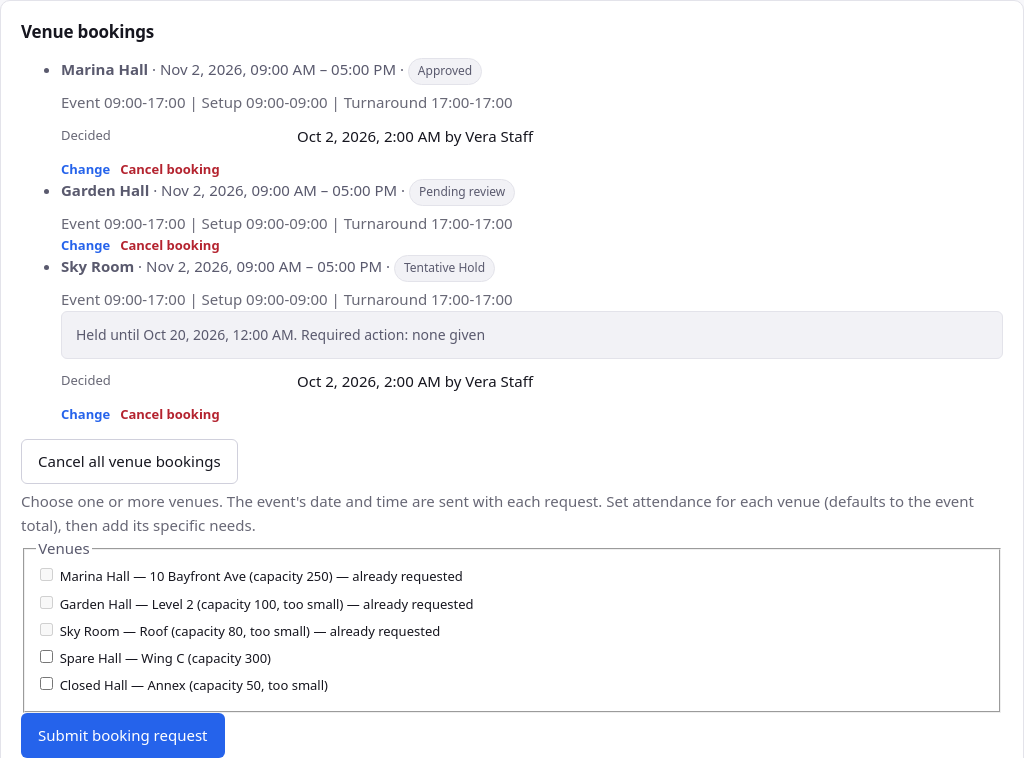
Test: SCRUM-96 AC2 - the change form › discards the change without sending anything
Expected: the text "Marina Hall" is shown, left=61, top=59, right=148, bottom=79
Click the button with aria-label "Change Marina Hall booking" at [86, 169], box left=61, top=159, right=110, bottom=179
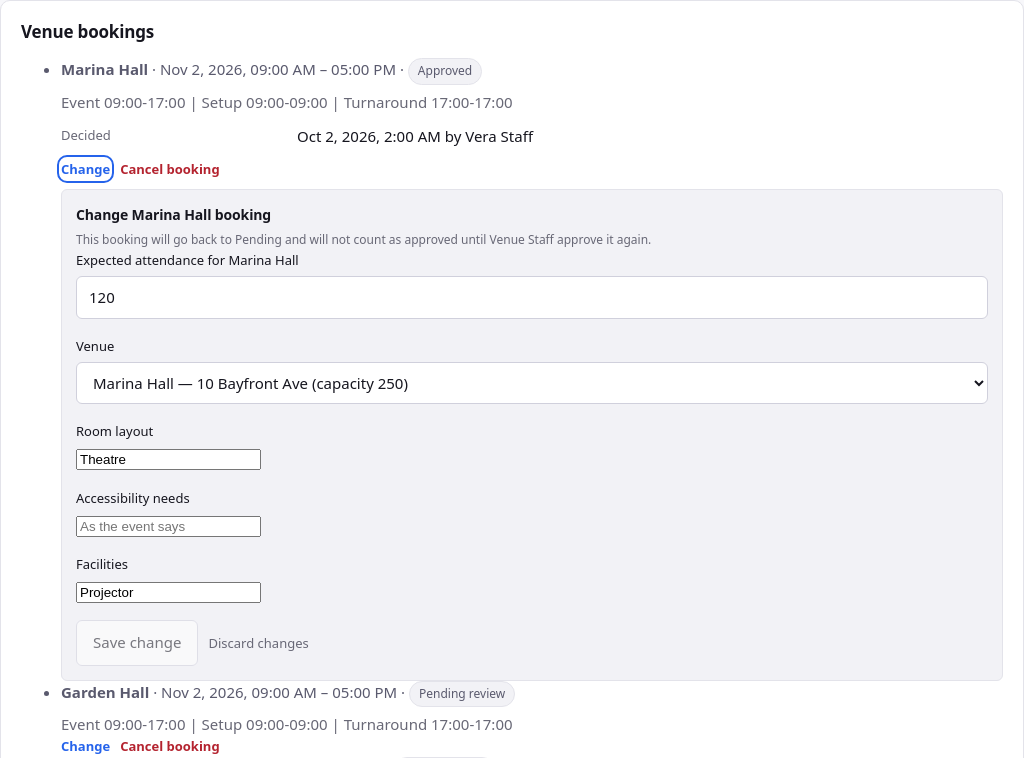
Select "Spare Hall — Wing C (capacity 300)" in the dropdown labelled "Venue" at [532, 383], box left=76, top=362, right=988, bottom=404
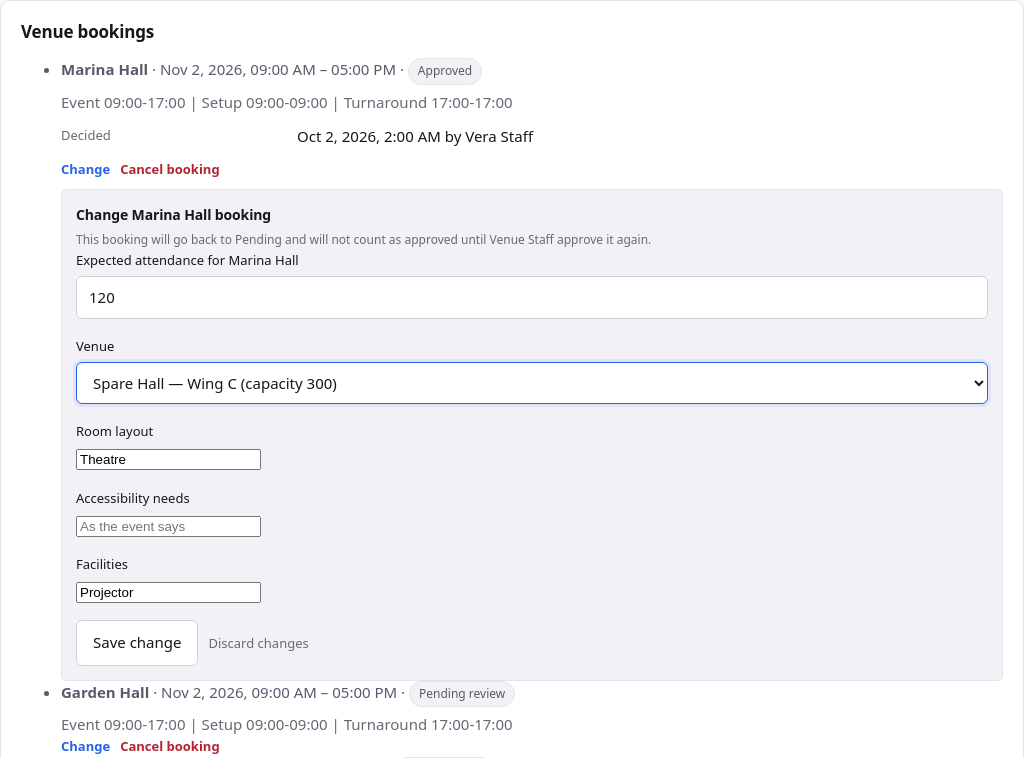
Click the button "Discard changes" at [259, 643], box left=208, top=633, right=309, bottom=653
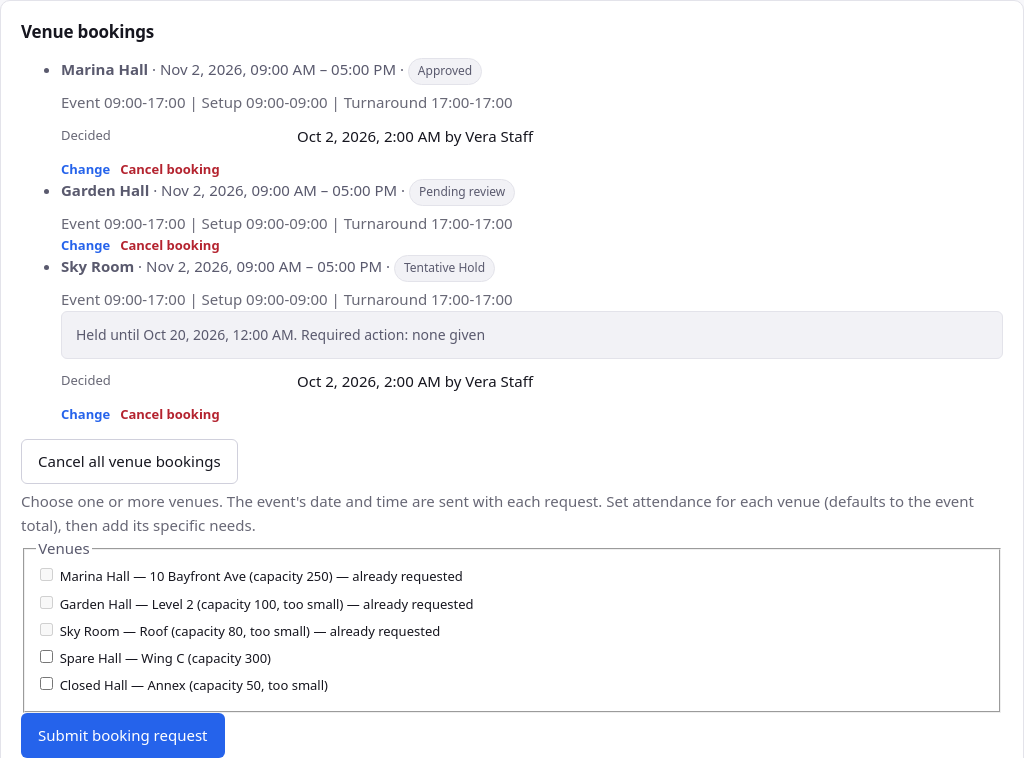
Now the heading "Change Marina Hall booking" is gone
